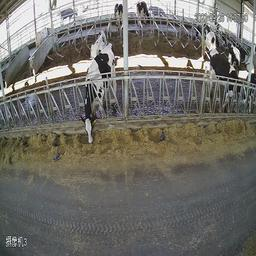cow: (77, 41, 121, 158), (208, 44, 246, 142), (89, 18, 108, 55), (195, 17, 214, 49), (135, 0, 151, 33), (111, 2, 123, 29)
